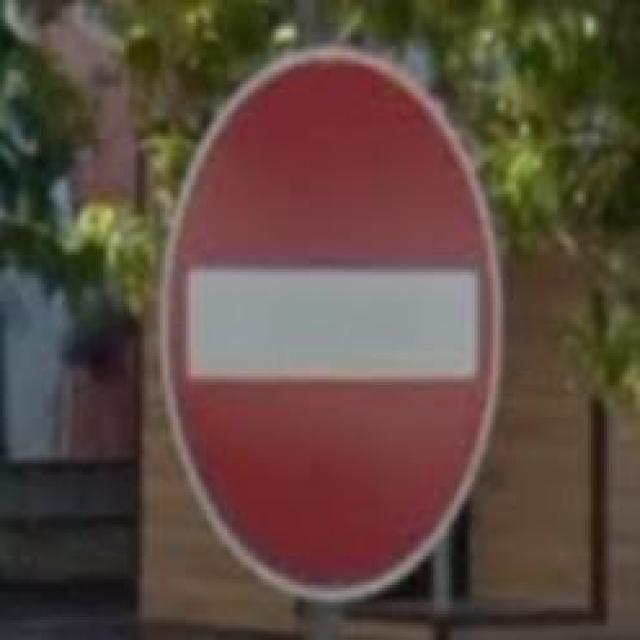Zakaz wjazdu: (160, 47, 506, 602)
